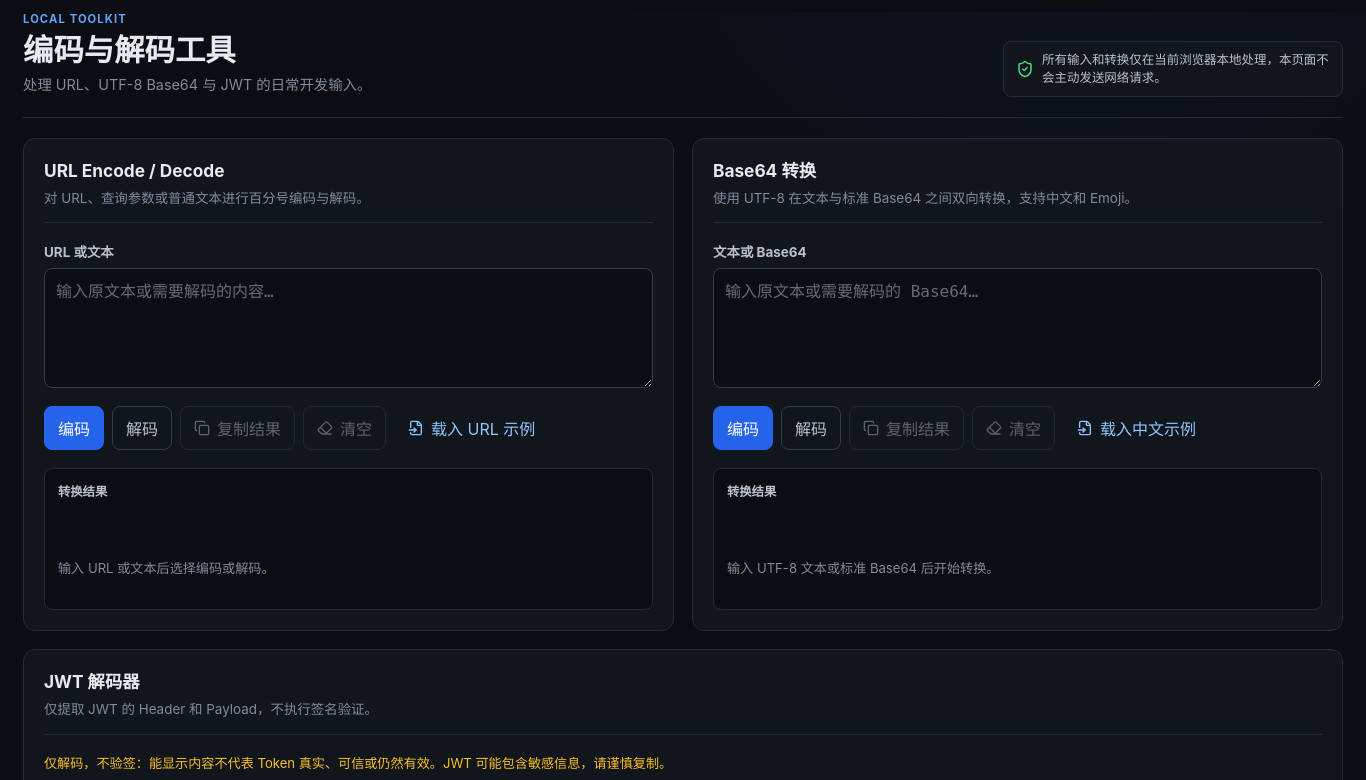
Test: EncodeTools › encodes UTF-8 Base64 locally and provides copy and clear feedback
The width and height of the screenshot is (1366, 780).
Expected: the text "所有输入和转换仅在当前浏览器本地处理，本页面不会主动发送网络请求。" is shown, [1042,51,1330,87]
Expected: the element "Base64 转换" is shown, [692,138,1343,631]
Type "你好" into the text box labelled "文本或 Base64".
click(1018, 328); type("你好")  # box [713,268,1322,388]
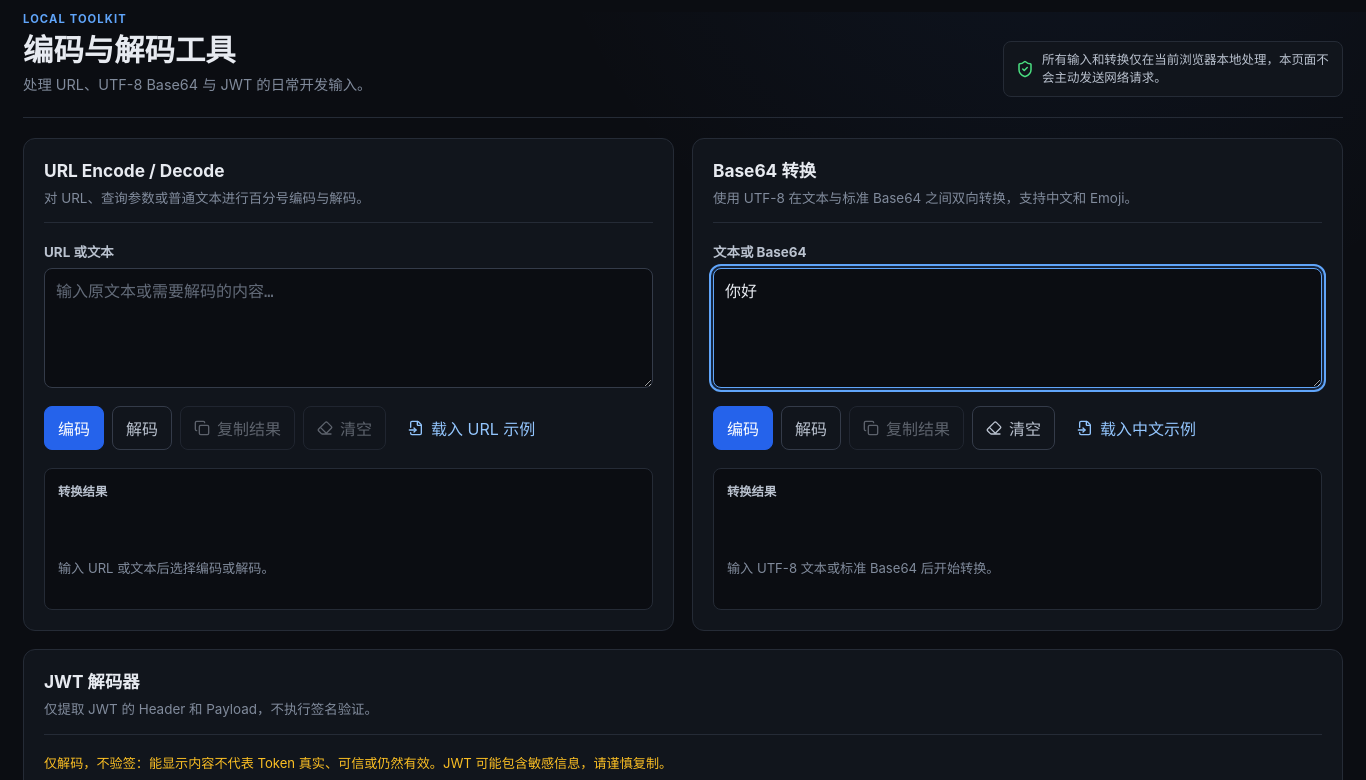
Click the button "编码" below "文本或 Base64".
click(743, 428)  # box [713,406,773,450]
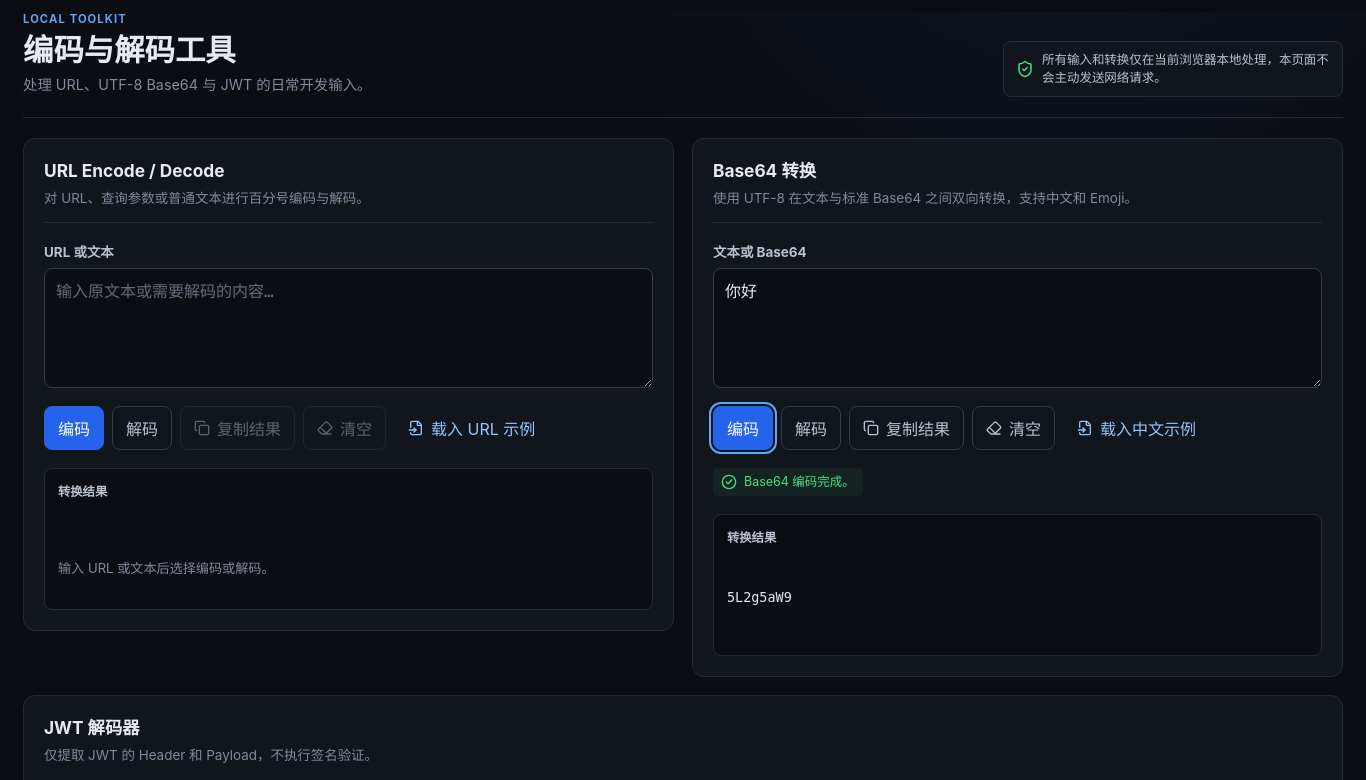
Expected: the element "转换结果" shows "5L2g5aW9", [727,590,792,605]
Expected: the message shows "Base64 编码完成", [744,474,855,489]
Click the button "复制结果" below "文本或 Base64".
click(906, 428)  # box [849,406,964,450]
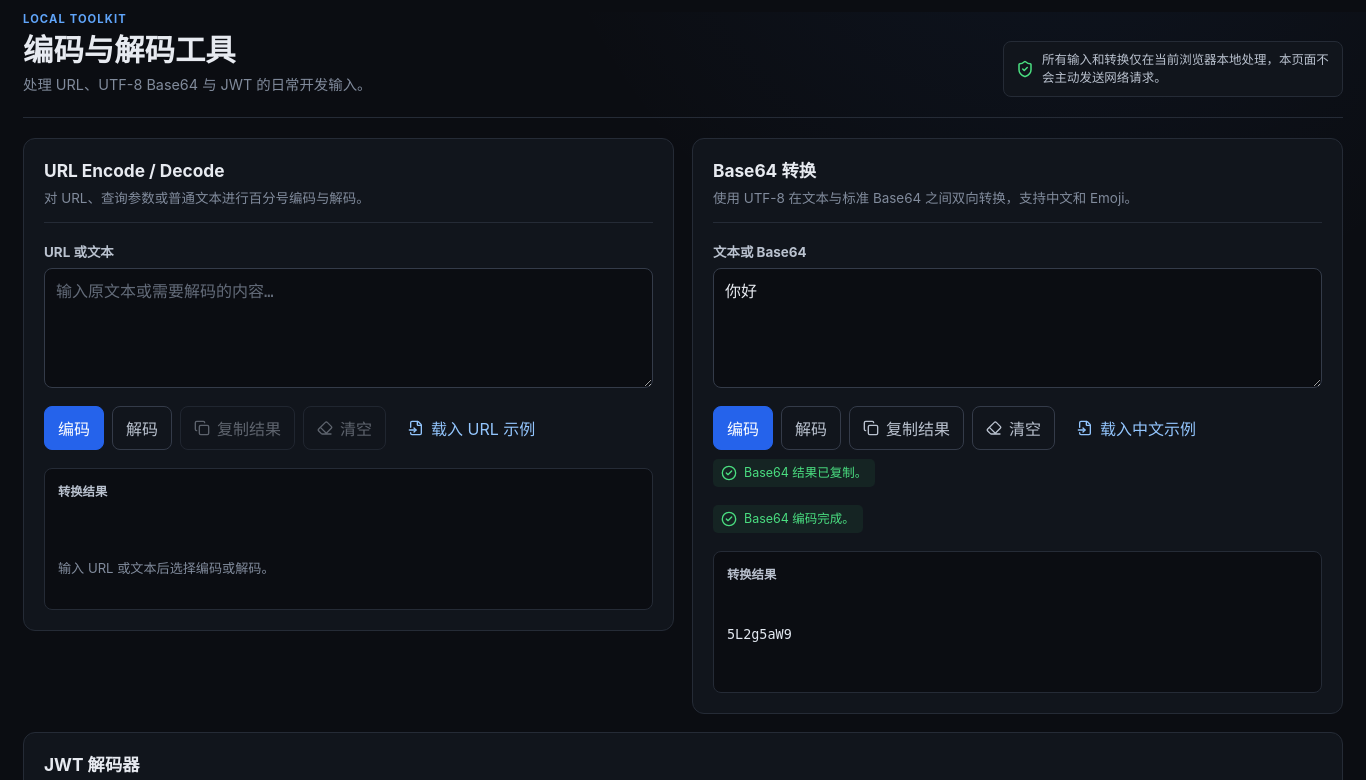
Expected: the text "Base64 结果已复制。" is shown, [744,464,867,482]
Replace the text in the text box labelled "文本或 Base64" with "5L2g5aW9" at x=1018, y=328, box [713,268,1322,388]
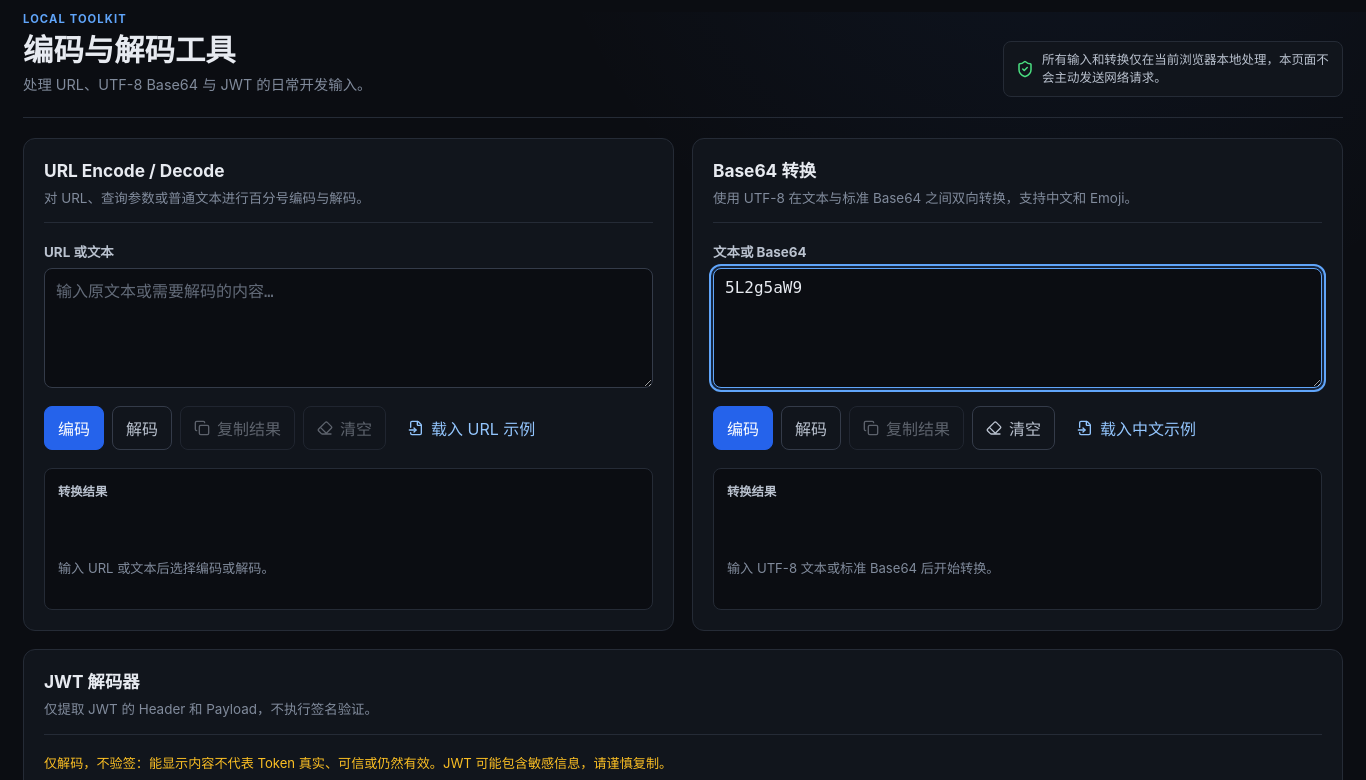
Click the button "解码" below "文本或 Base64".
click(811, 428)  # box [781,406,841,450]
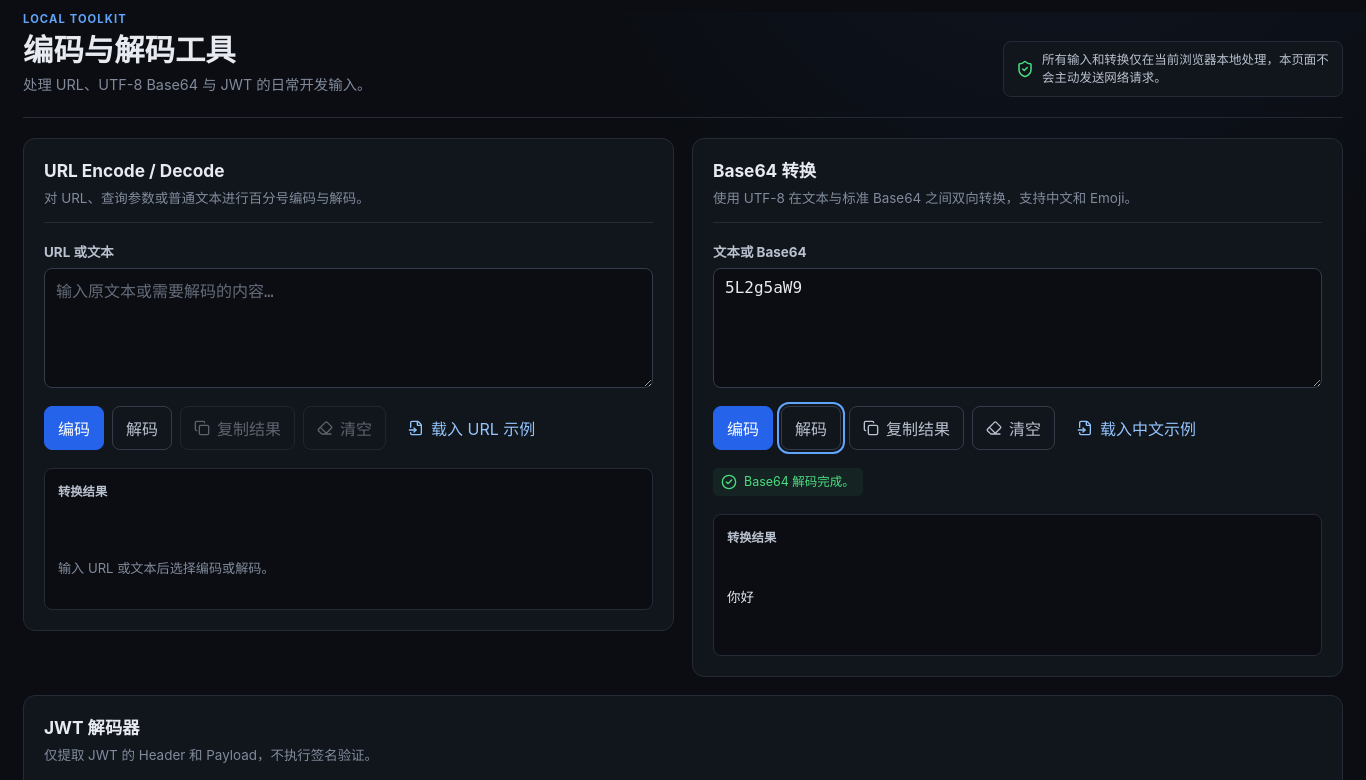
Expected: the element "转换结果" shows "你好", [727,590,754,605]
Expected: the text "Base64 解码完成。" is shown, [744,473,855,491]
Click the button "清空" below "文本或 Base64".
click(1014, 428)  # box [972,406,1055,450]
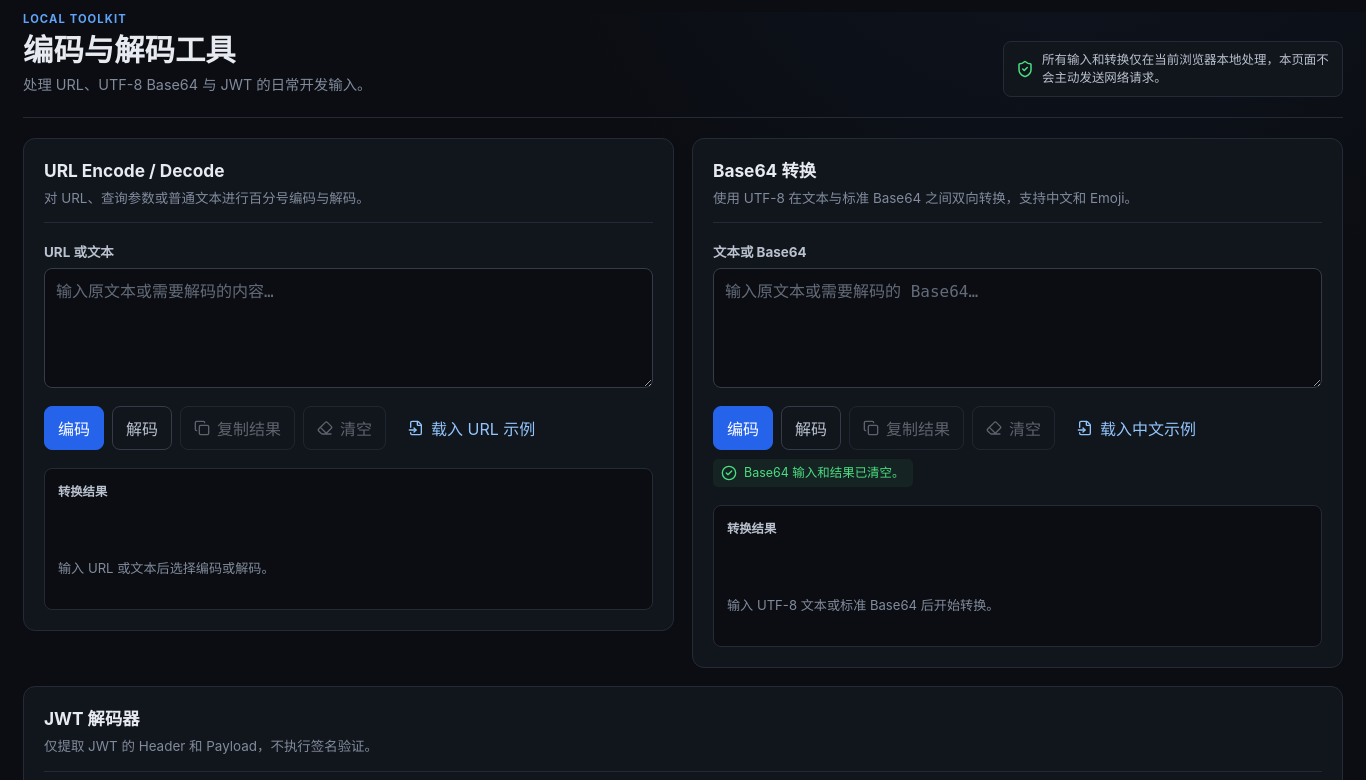
Expected: the element "转换结果" shows "输入 UTF-8 文本或标准 Base64 后开始转换", [727,597,999,613]
Expected: the message shows "Base64 输入和结果已清空", [744,465,904,480]
